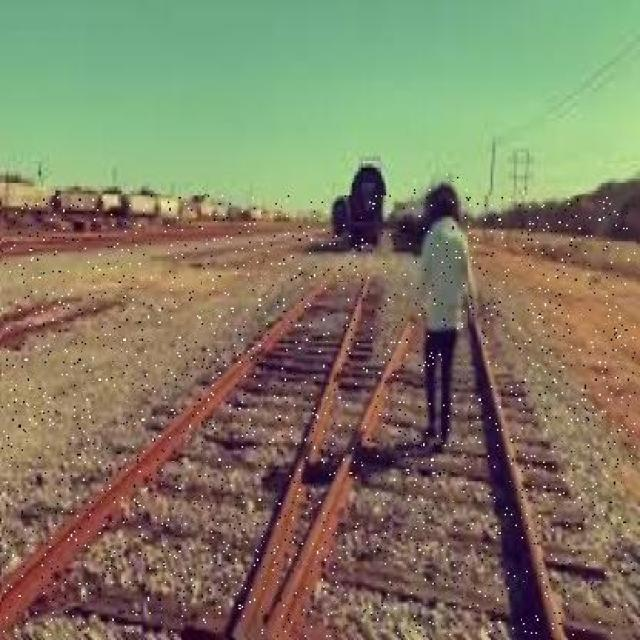danger: (414, 173, 468, 444)
rail: (2, 196, 635, 637)
